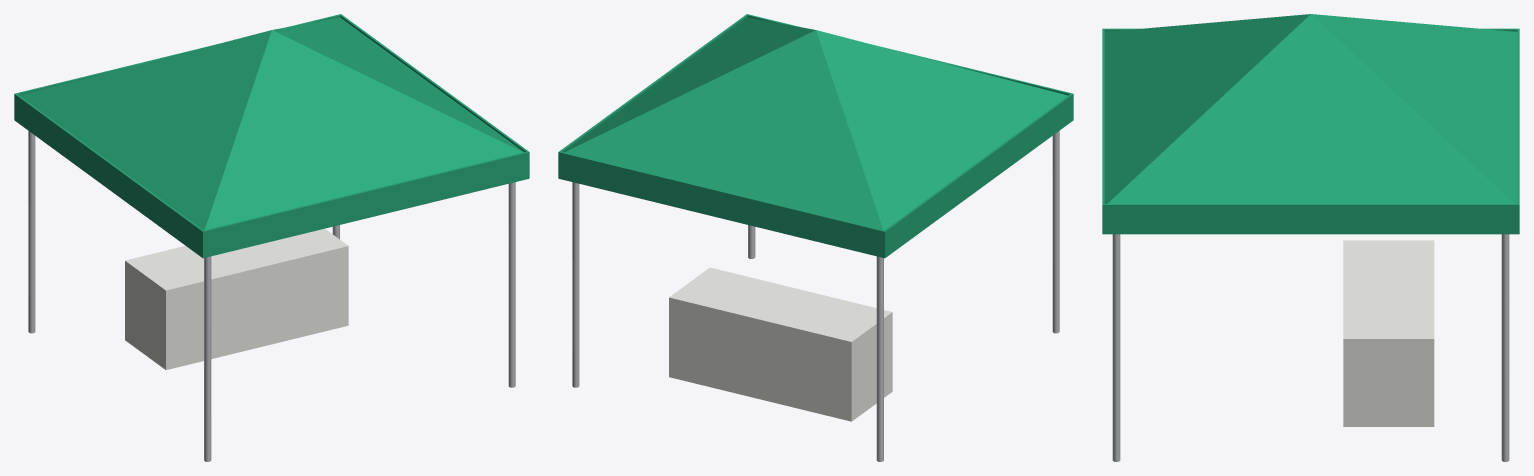
Rendered from SM_Gazebo_Green.fbx.
3 views of the same model, side by side, from view 1: azimuth 30°, elevation 25°; view 2: azimuth 150°, elevation 25°; view 3: azimuth 270°, elevation 25° (orthographic). The views are drawn at different scales.
Visible parts, largest first — view 1: SM_Gazebo_Green; view 2: SM_Gazebo_Green; view 3: SM_Gazebo_Green.
Part boxes in pixels (left/top/right/bottom): SM_Gazebo_Green: left=14, top=14, right=529, bottom=461; SM_Gazebo_Green: left=558, top=14, right=1073, bottom=461; SM_Gazebo_Green: left=1102, top=14, right=1519, bottom=461.
Bounding box in the file's own units: 322 × 310 × 322.
